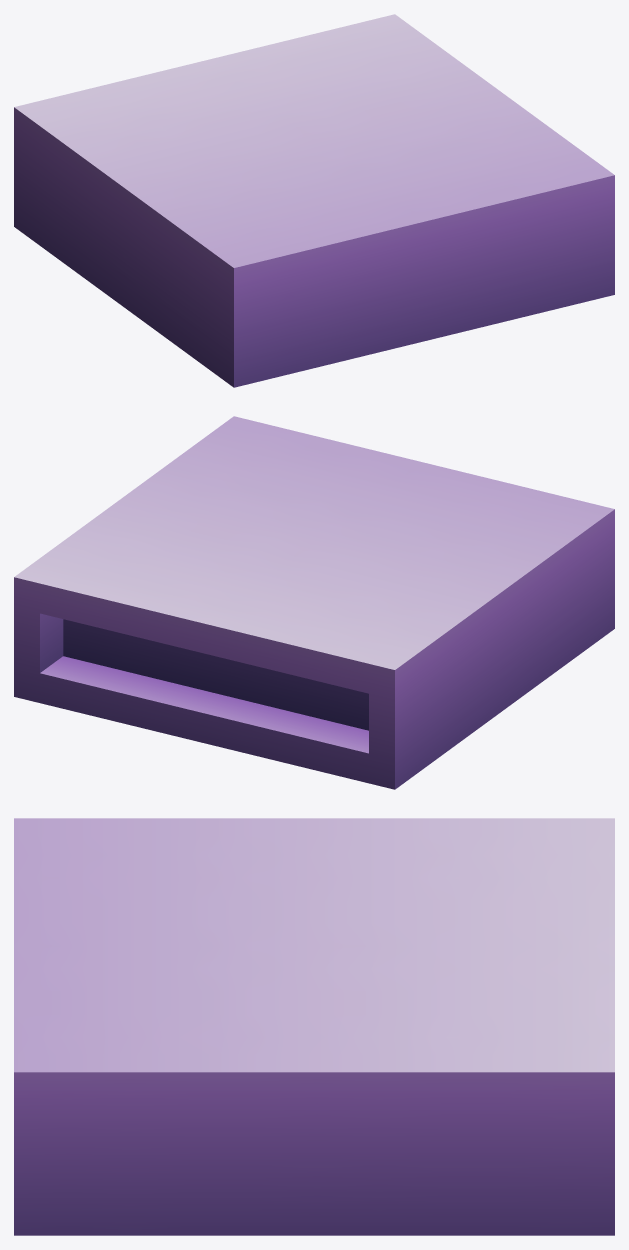
Rendered from PlatformGlitch.fbx.
3 views of the same model, one above another, from view 1: azimuth 30°, elevation 25°; view 2: azimuth 150°, elevation 25°; view 3: azimuth 270°, elevation 25° (orthographic). The views are drawn at different scales.
Parts seen in each view (by area): view 1: PlatformGlitch; view 2: PlatformGlitch; view 3: PlatformGlitch.
Boxes of the visible parts, x1,y1,x2,y2 form: PlatformGlitch: (14,14,614,387); PlatformGlitch: (14,416,614,789); PlatformGlitch: (14,818,614,1235).
Size of the model in its own units: 100 by 30 by 100.
1 material, 1 textured.
